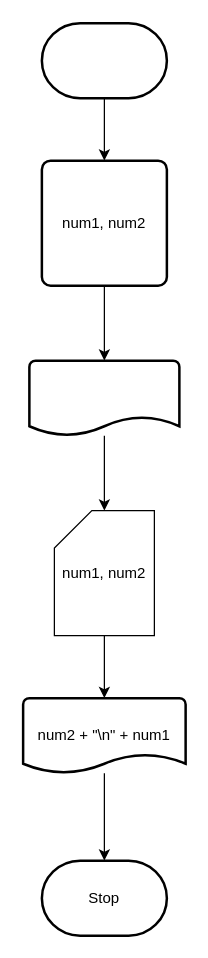
Some shapes in this 208 by 958 pixel diagram are drawn without their labels. Here are the shapes that lost their labels. From the top down, the centre of each, then its label:
(x=104, y=60): Start
(x=104, y=397): "Enter two numbers:"
